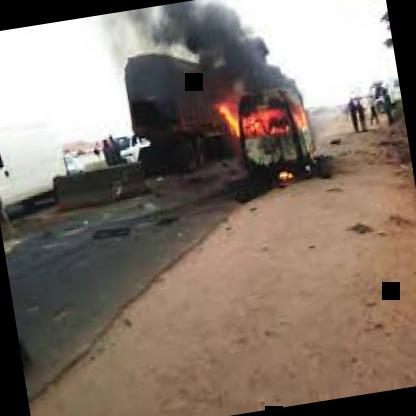fire: (195, 44, 337, 207)
